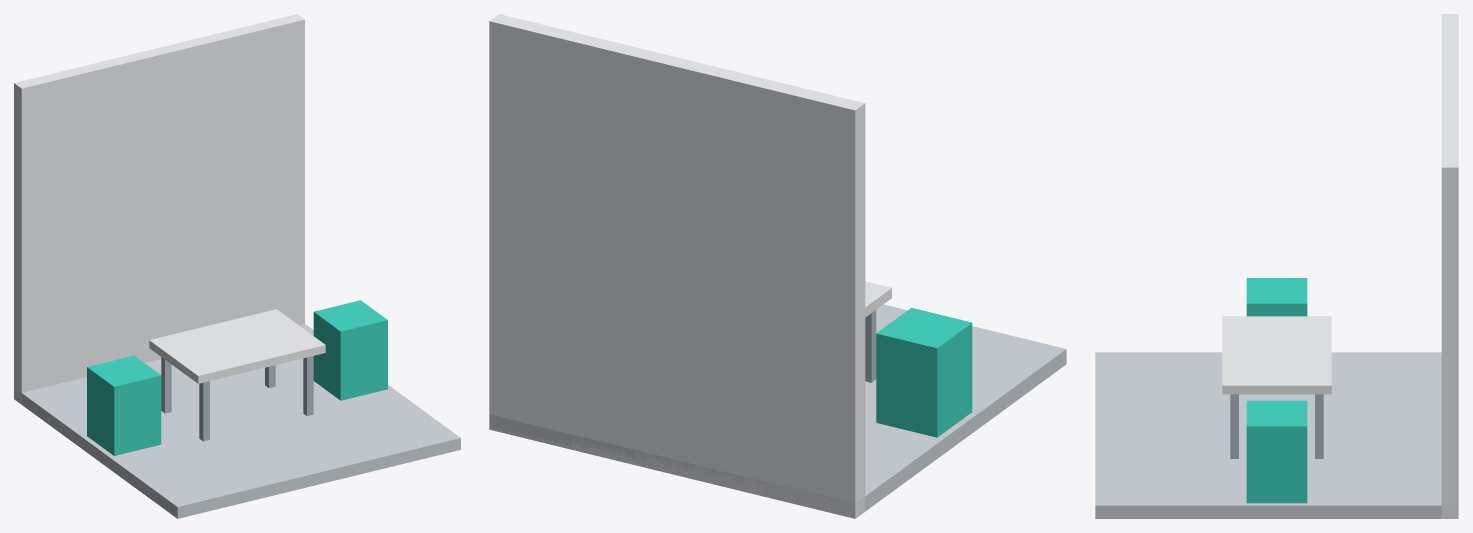
3 renders of one model, left to right at view 1: azimuth 30°, elevation 25°; view 2: azimuth 150°, elevation 25°; view 3: azimuth 270°, elevation 25°, orthographic. The views are drawn at different scales.
Parts seen in each view (by area): view 1: Exhibition Booth Concept; view 2: Exhibition Booth Concept; view 3: Exhibition Booth Concept.
Part boxes in pixels (box(x1,y1,x2,y2)): Exhibition Booth Concept: box(14, 14, 460, 518); Exhibition Booth Concept: box(489, 14, 1066, 518); Exhibition Booth Concept: box(1095, 14, 1458, 518).
Size of the model in its own units: 3 by 3.2 by 3.
